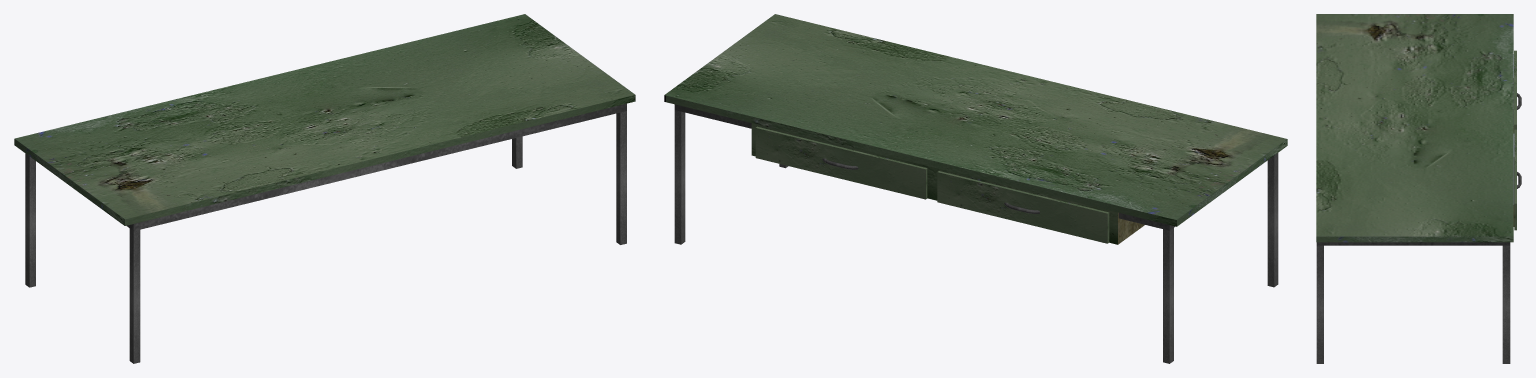
The model's file is furniture_desk01.dae.
3 views of the same model, side by side, from view 1: azimuth 30°, elevation 25°; view 2: azimuth 150°, elevation 25°; view 3: azimuth 270°, elevation 25° (orthographic). The views are drawn at different scales.
Parts seen in each view (by area): view 1: table; view 2: table, rightdrawer, leftdrawer; view 3: table, leftdrawer, rightdrawer.
Boxes of the visible parts, left/top/right/bottom form: table: left=14, top=14, right=635, bottom=363; table: left=664, top=14, right=1287, bottom=363; rightdrawer: left=937, top=171, right=1109, bottom=243; leftdrawer: left=755, top=126, right=927, bottom=199; table: left=1316, top=14, right=1513, bottom=363; leftdrawer: left=1513, top=129, right=1521, bottom=230; rightdrawer: left=1513, top=50, right=1521, bottom=132.
Size of what is drawn, in the model's own units: 3.57 by 0.9811 by 1.39.
